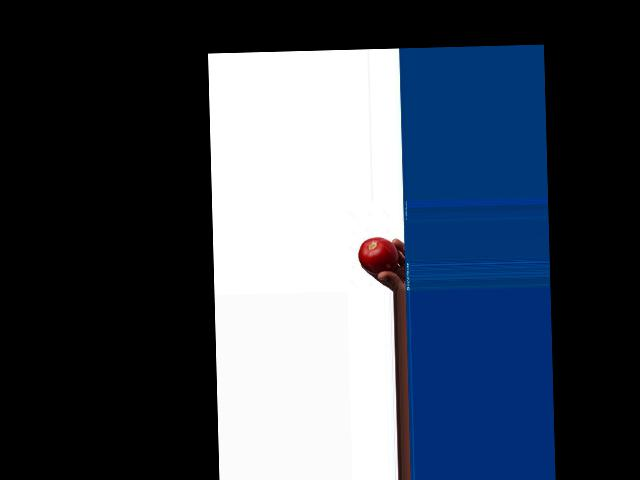tomato: (358, 236, 399, 275)
